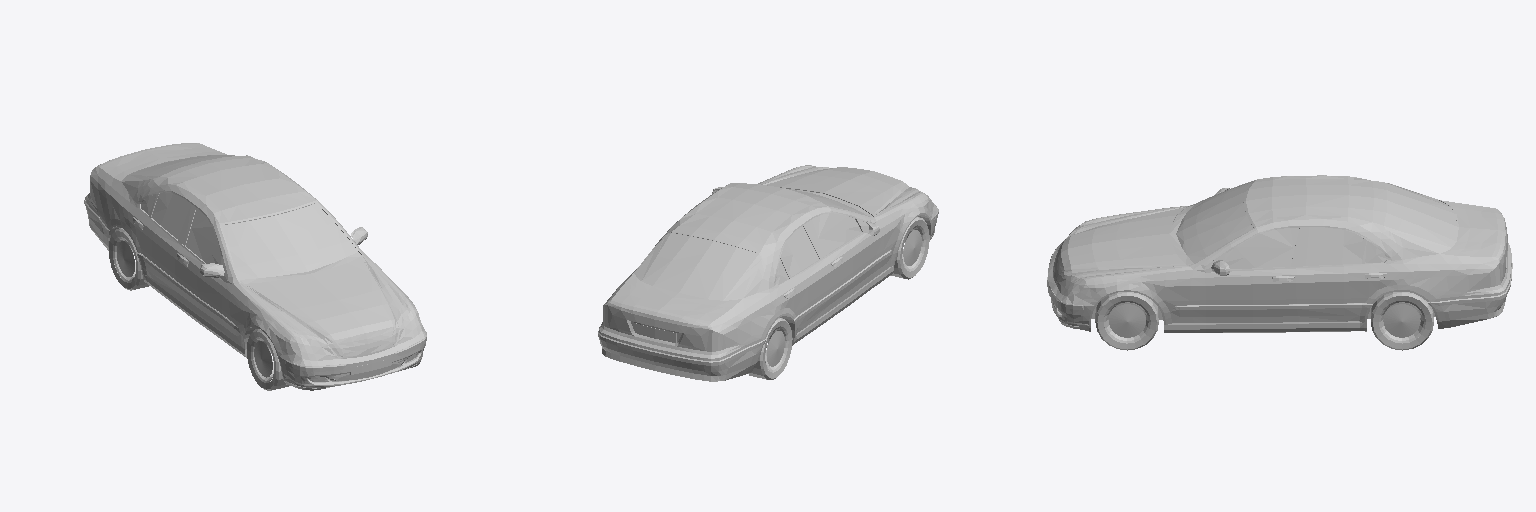
Rendered from natla.obj.
3 views of the same model, side by side, from view 1: azimuth 30°, elevation 25°; view 2: azimuth 150°, elevation 25°; view 3: azimuth 270°, elevation 25° (orthographic).
Bounding box in the file's own units: 2.88 × 2.05 × 7.04.